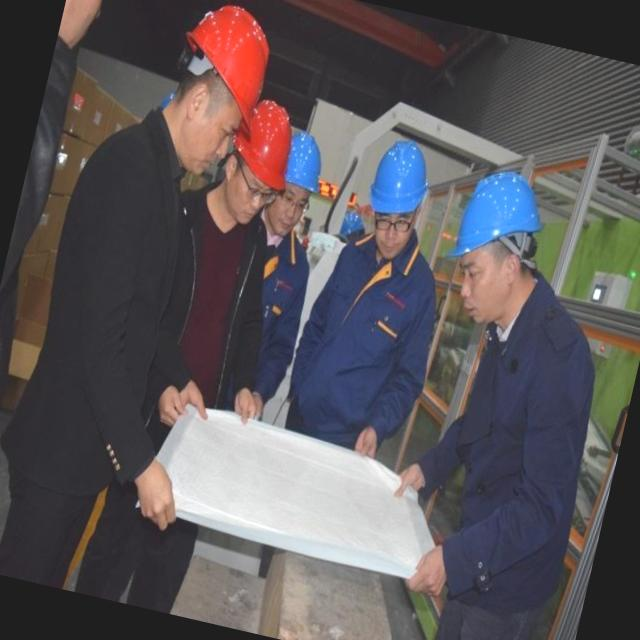helmet: (158, 0, 283, 146), (436, 158, 560, 292), (358, 131, 441, 240)
no-vest: (22, 108, 219, 500), (428, 282, 622, 576)
